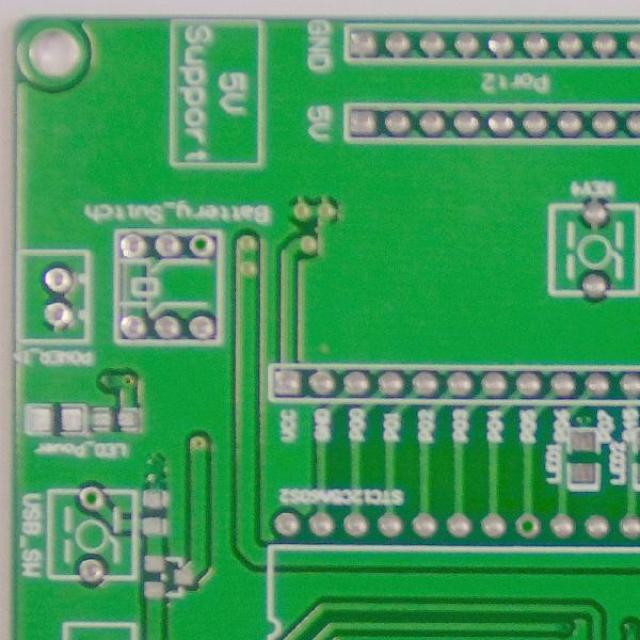Missing_Hole: (512, 511, 544, 541), (76, 482, 106, 512), (187, 231, 216, 258)
